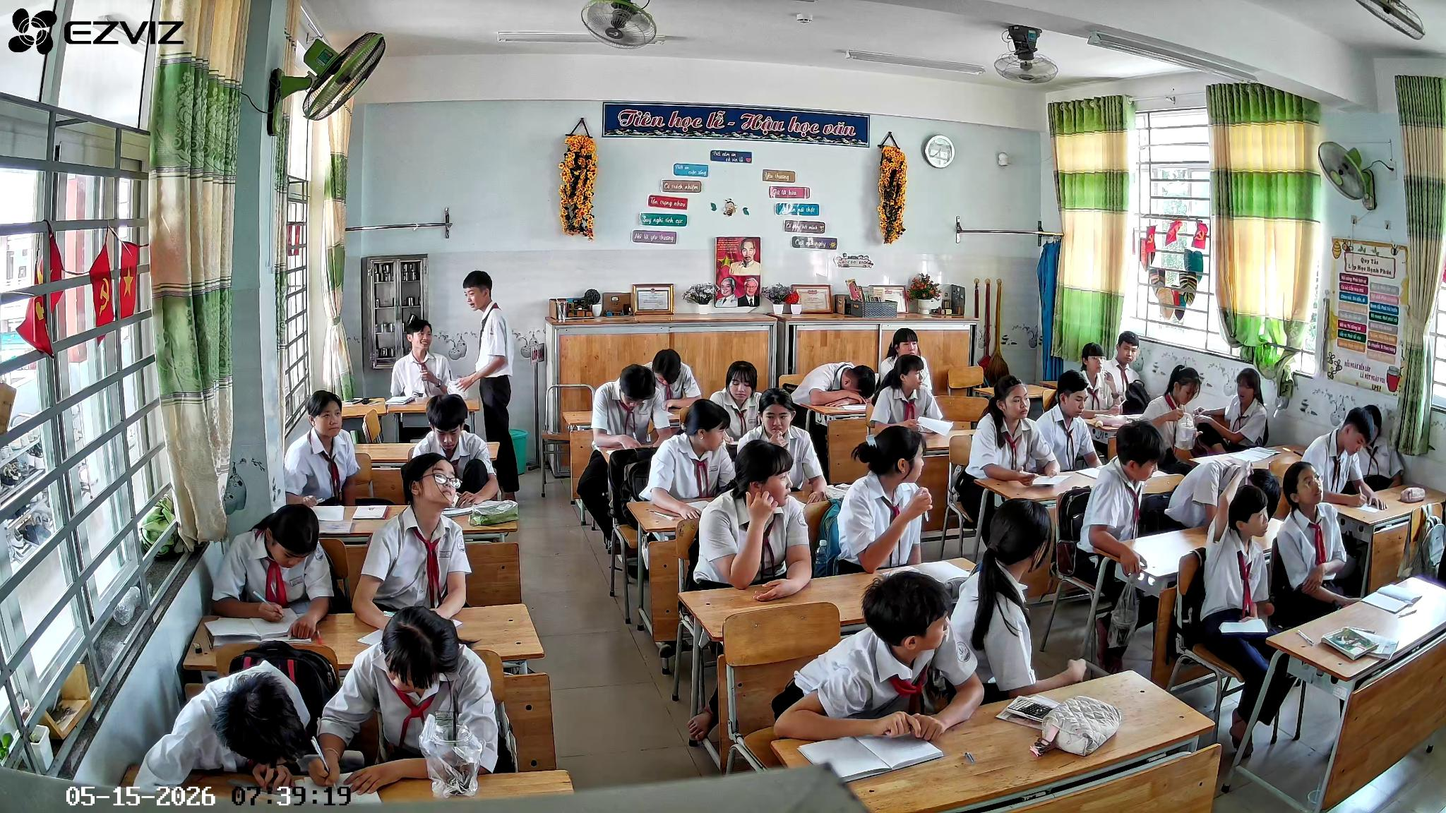person: (302, 607, 503, 796), (770, 569, 985, 742), (940, 498, 1088, 704), (130, 662, 316, 802), (1182, 483, 1277, 748), (351, 452, 471, 632), (692, 440, 813, 601), (955, 375, 1063, 555), (208, 504, 336, 640), (577, 364, 676, 528), (1269, 461, 1368, 620), (453, 270, 520, 502), (834, 425, 936, 573), (1077, 421, 1167, 580), (640, 399, 737, 522), (740, 389, 830, 507), (409, 394, 502, 507), (791, 362, 876, 485), (1291, 405, 1389, 510), (1162, 454, 1284, 534), (282, 390, 363, 507), (390, 319, 463, 443), (1033, 370, 1103, 473), (1138, 365, 1205, 467), (1194, 368, 1269, 457), (869, 353, 943, 432), (1351, 403, 1407, 490), (707, 360, 763, 445), (1066, 342, 1128, 416), (879, 327, 935, 398), (1104, 331, 1147, 414), (649, 349, 703, 413)
